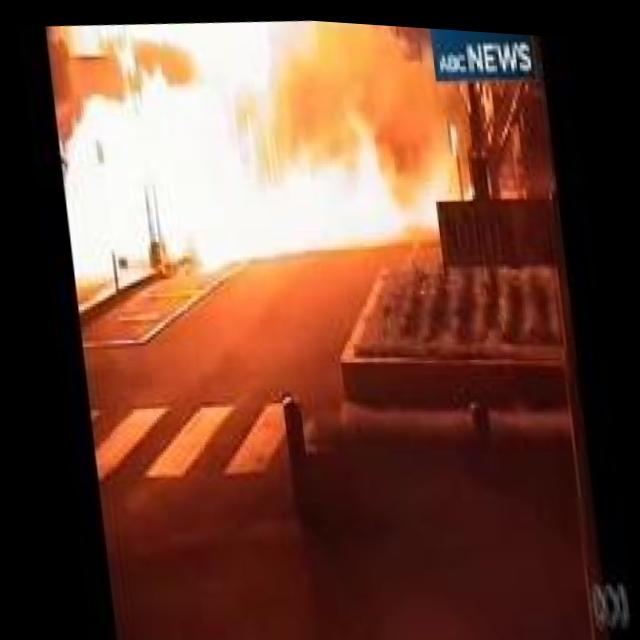fire: (47, 2, 448, 296)
